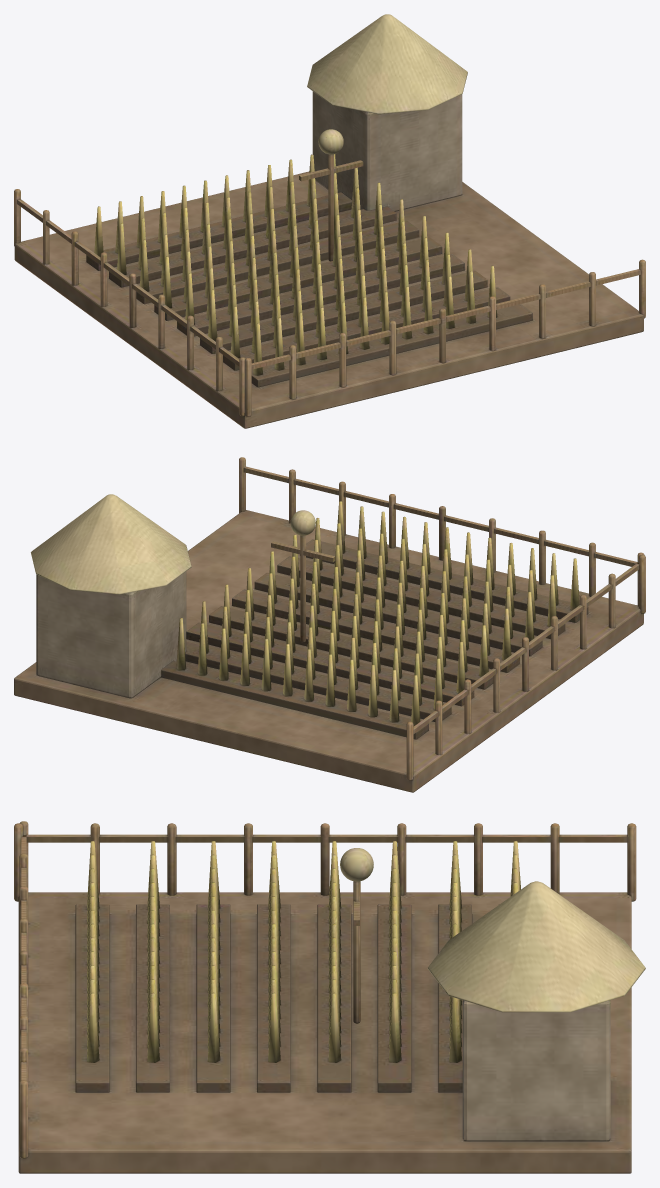
The model's file is farm.glb.
3 views of the same model, one above another, from view 1: azimuth 30°, elevation 25°; view 2: azimuth 150°, elevation 25°; view 3: azimuth 270°, elevation 25° (orthographic). The views are drawn at different scales.
Visible parts, largest first — view 1: farm; view 2: farm; view 3: farm.
Boxes of the visible parts, left/top/right/bottom form: farm: left=14, top=14, right=645, bottom=428; farm: left=14, top=457, right=645, bottom=792; farm: left=14, top=821, right=645, bottom=1173.
Size of the model in its own units: 5.93 by 2.62 by 5.98.
Materials: 1 (1 with a texture image).
